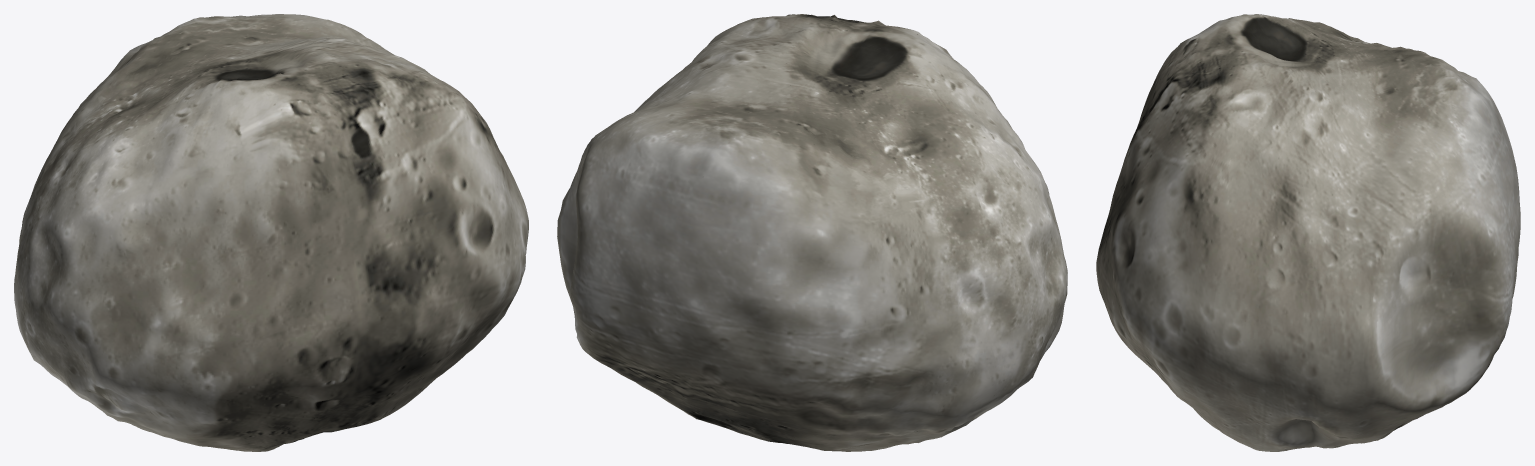
The model's file is moon.glb.
The picture shows the model from 3 angles, left to right: view 1: azimuth 30°, elevation 25°; view 2: azimuth 150°, elevation 25°; view 3: azimuth 270°, elevation 25°; orthographic projection. The views are drawn at different scales.
Parts seen in each view (by area): view 1: phobos; view 2: phobos; view 3: phobos.
Boxes of the visible parts, box(x1,y1,x2,y2) form: phobos: box(14, 14, 528, 451); phobos: box(557, 14, 1067, 451); phobos: box(1096, 14, 1520, 451).
Size of the model in its own units: 0.4105 by 0.3315 by 0.3328.
Materials: 1 (1 with a texture image).
